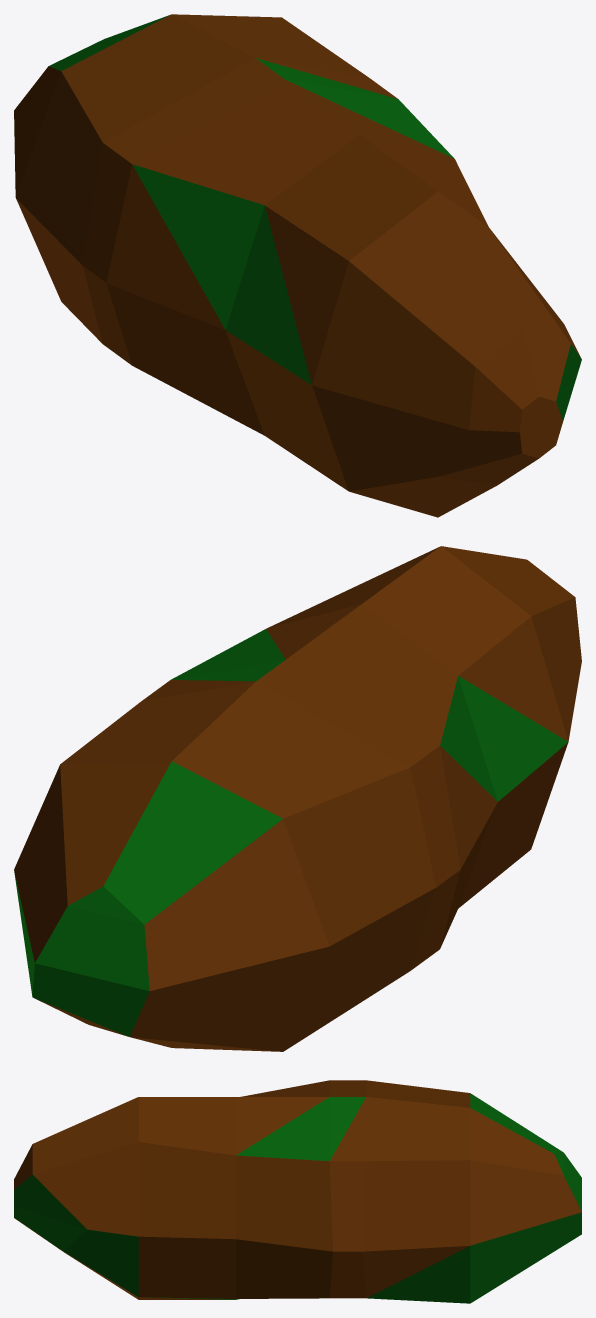
Rendered from pistachio02.obj.
The picture shows the model from 3 angles, top to bottom: view 1: azimuth 30°, elevation 25°; view 2: azimuth 150°, elevation 25°; view 3: azimuth 270°, elevation 25°; orthographic projection. The views are drawn at different scales.
Parts seen in each view (by area): view 1: Cylinder_Cylinder.001; view 2: Cylinder_Cylinder.001; view 3: Cylinder_Cylinder.001.
Boxes of the visible parts, <box> form: Cylinder_Cylinder.001: <box>14,14,581,517</box>; Cylinder_Cylinder.001: <box>14,546,581,1051</box>; Cylinder_Cylinder.001: <box>14,1080,581,1303</box>.
Size of the model in its own units: 0.00905 by 0.00804 by 0.0204.
1 material, 1 textured.
